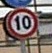limite 10: (4, 8, 39, 37)
